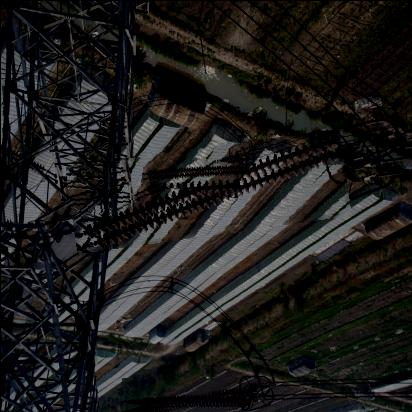insulator: (68, 138, 349, 245), (142, 154, 242, 195), (120, 383, 252, 412)
